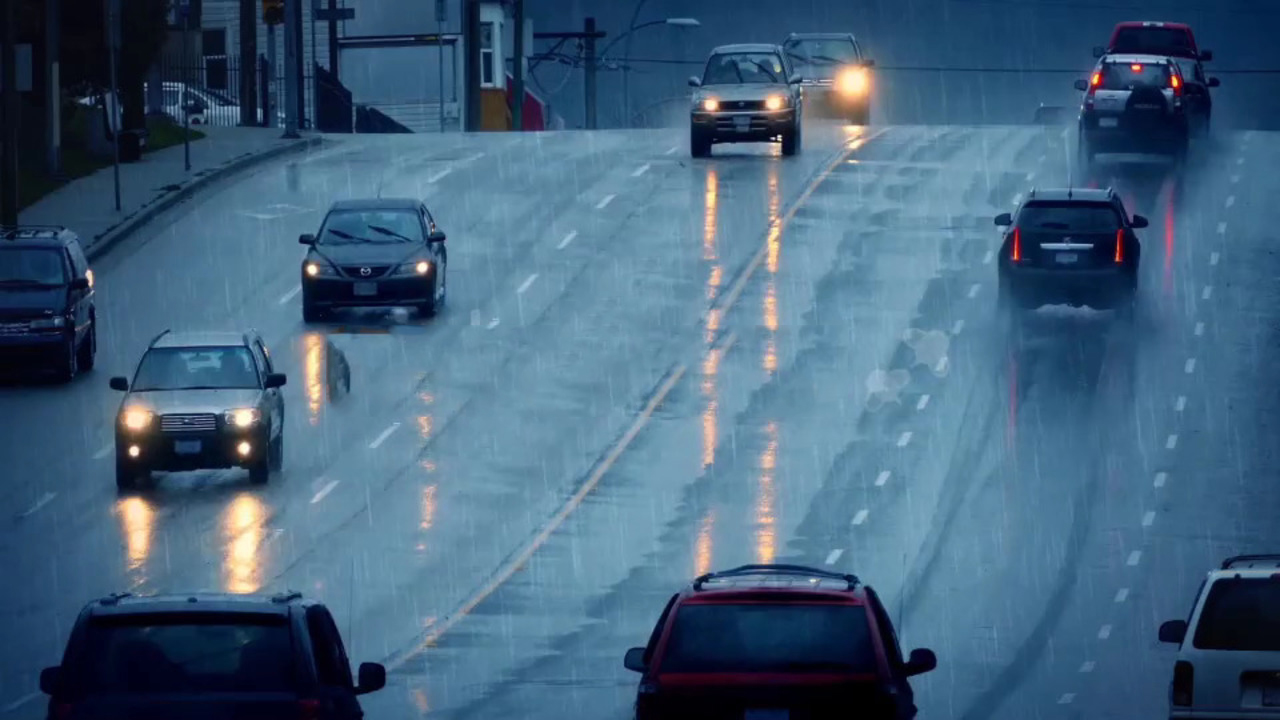car: (623, 565, 940, 719), (63, 590, 391, 677), (112, 331, 284, 488), (295, 199, 451, 326), (1001, 189, 1145, 310), (0, 227, 100, 389), (686, 44, 805, 159), (1068, 57, 1184, 161), (1112, 22, 1218, 132), (1158, 556, 1254, 674), (775, 31, 874, 124)
